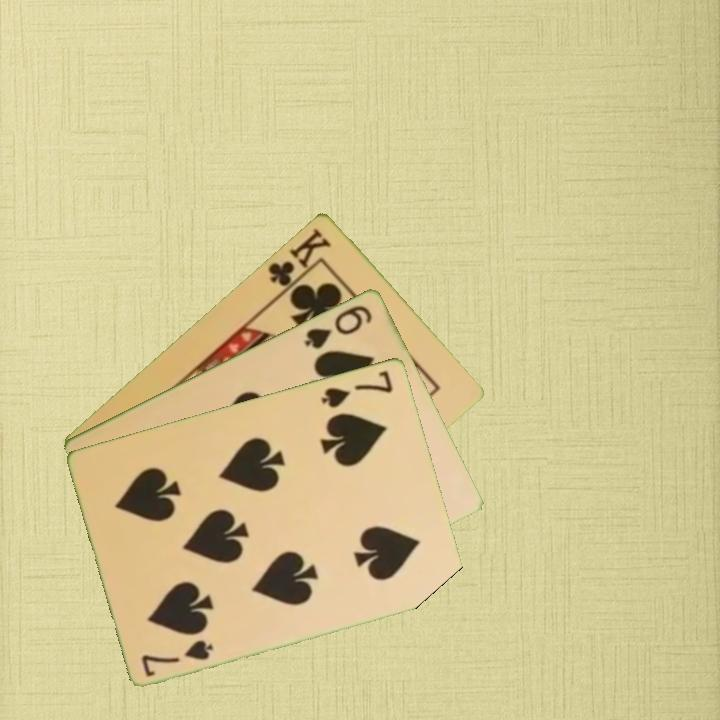6s: (301, 301, 375, 352)
7s: (138, 635, 217, 679), (318, 366, 396, 410)
Kc: (264, 224, 335, 297)
